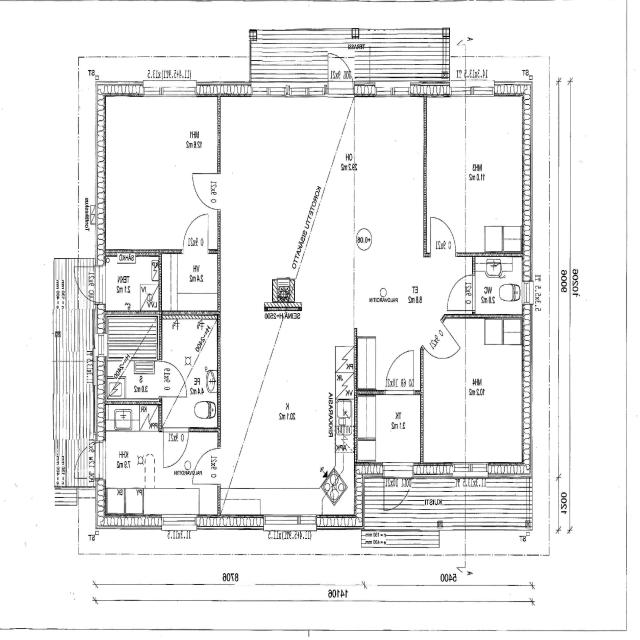door: (423, 320, 460, 373), (384, 462, 413, 519), (385, 350, 414, 395), (328, 46, 354, 96), (70, 442, 106, 478), (70, 267, 106, 302), (157, 361, 187, 397), (430, 217, 456, 257), (192, 173, 220, 210), (448, 275, 476, 311), (163, 428, 188, 467), (183, 214, 208, 253), (193, 449, 220, 484)
